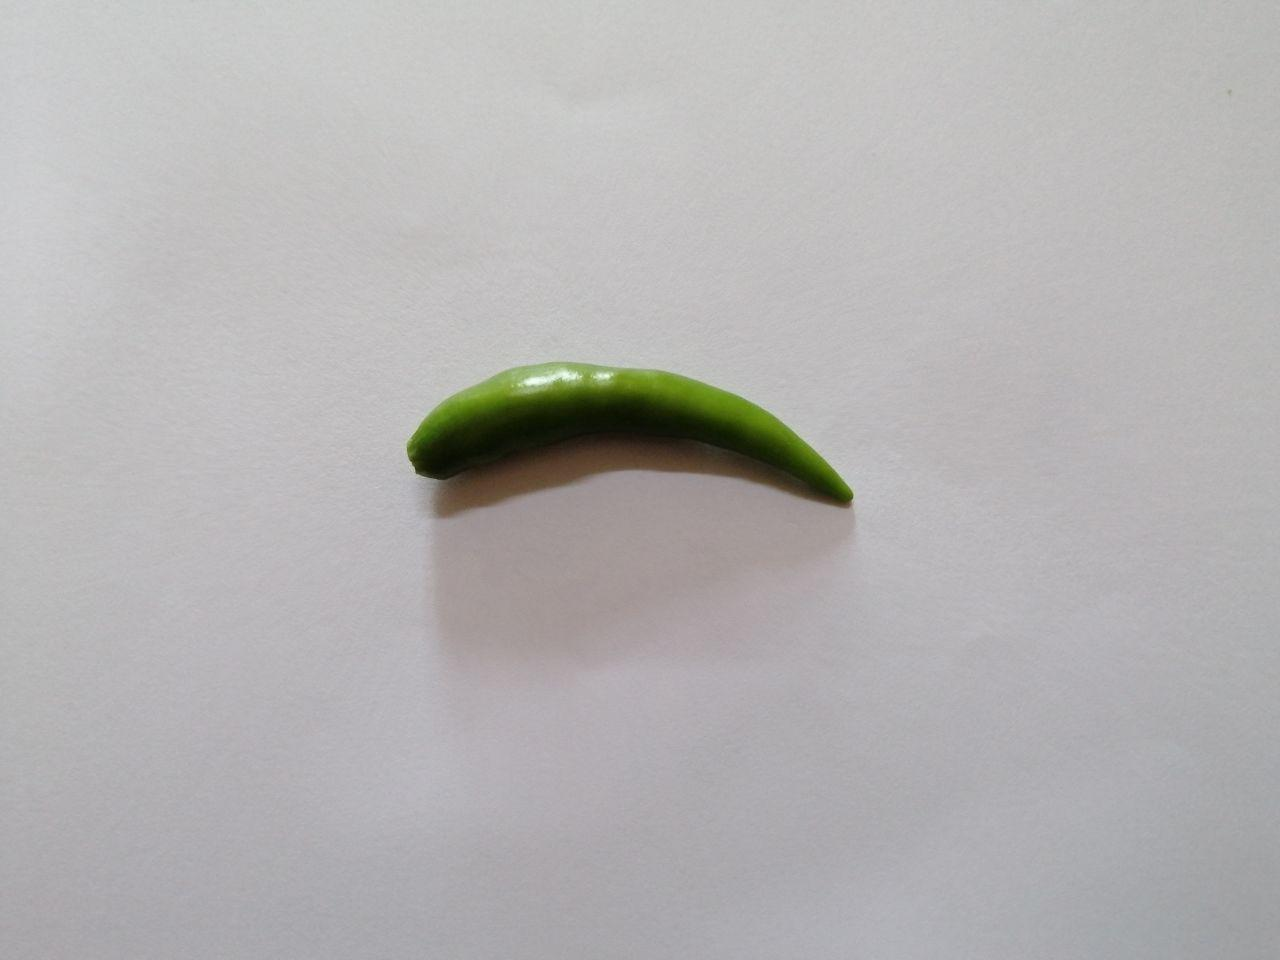lada hijau: (385, 340, 905, 564)
